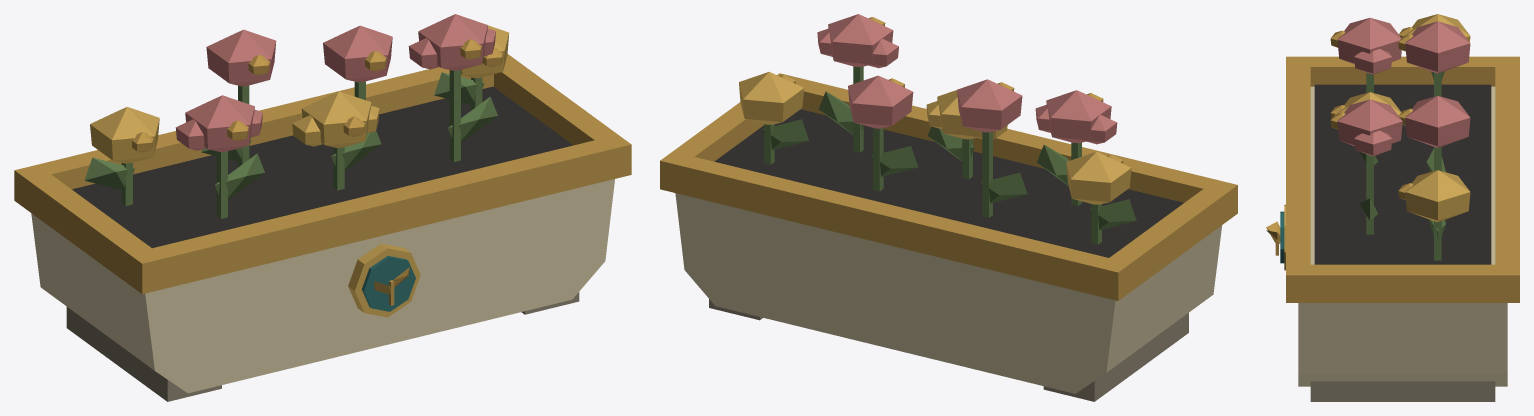
The model's file is flower-planter.glb.
3 renders of one model, left to right at view 1: azimuth 30°, elevation 25°; view 2: azimuth 150°, elevation 25°; view 3: azimuth 270°, elevation 25°, orthographic. The views are drawn at different scales.
Parts seen in each view (by area): view 1: flower-planter; view 2: flower-planter; view 3: flower-planter.
Part boxes in pixels (x1,y1,x2,y2): flower-planter: (14, 14, 631, 401); flower-planter: (660, 14, 1237, 401); flower-planter: (1266, 14, 1519, 401).
Size of the model in its own units: 2.52 by 1.41 by 1.24.
